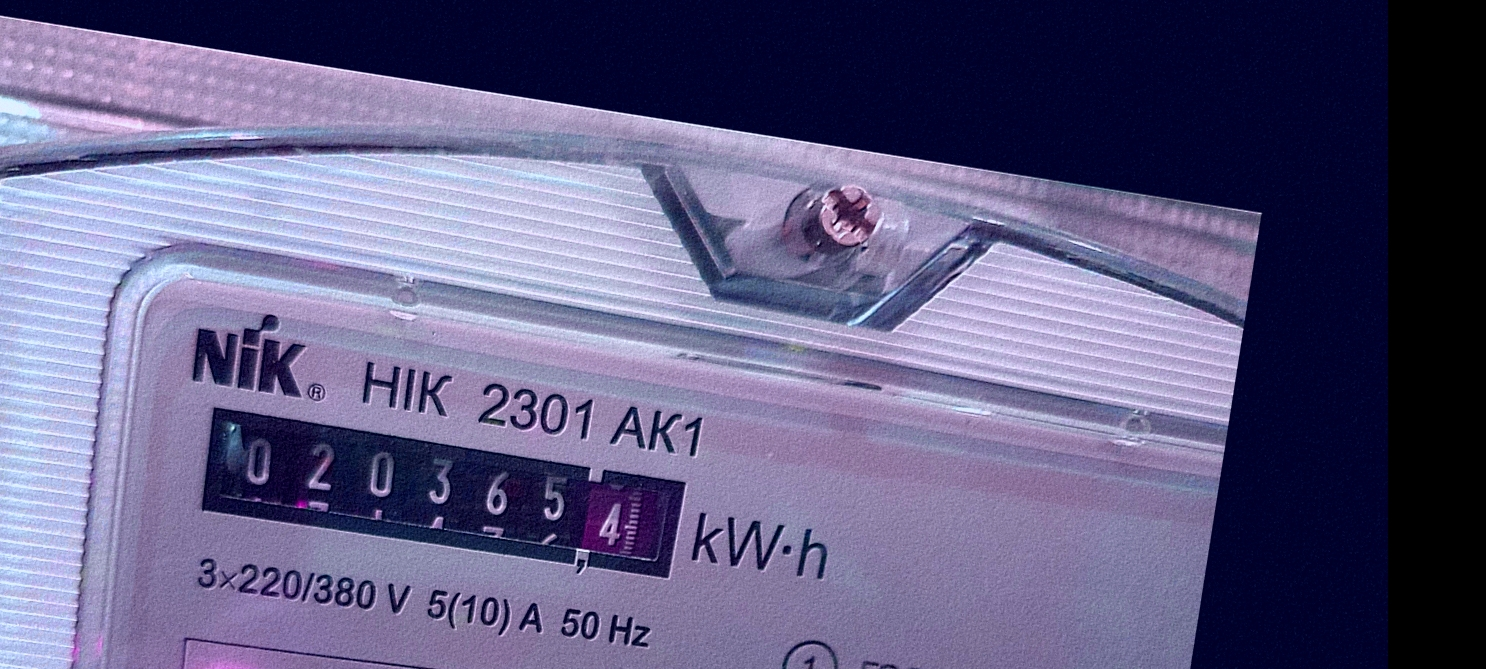0: (239, 432, 280, 491), (364, 448, 401, 502)
2: (303, 439, 341, 494)
3: (423, 455, 459, 508)
4: (595, 497, 626, 548)
5: (539, 474, 572, 524)
6: (481, 465, 514, 519)
screen: (182, 388, 705, 602)
